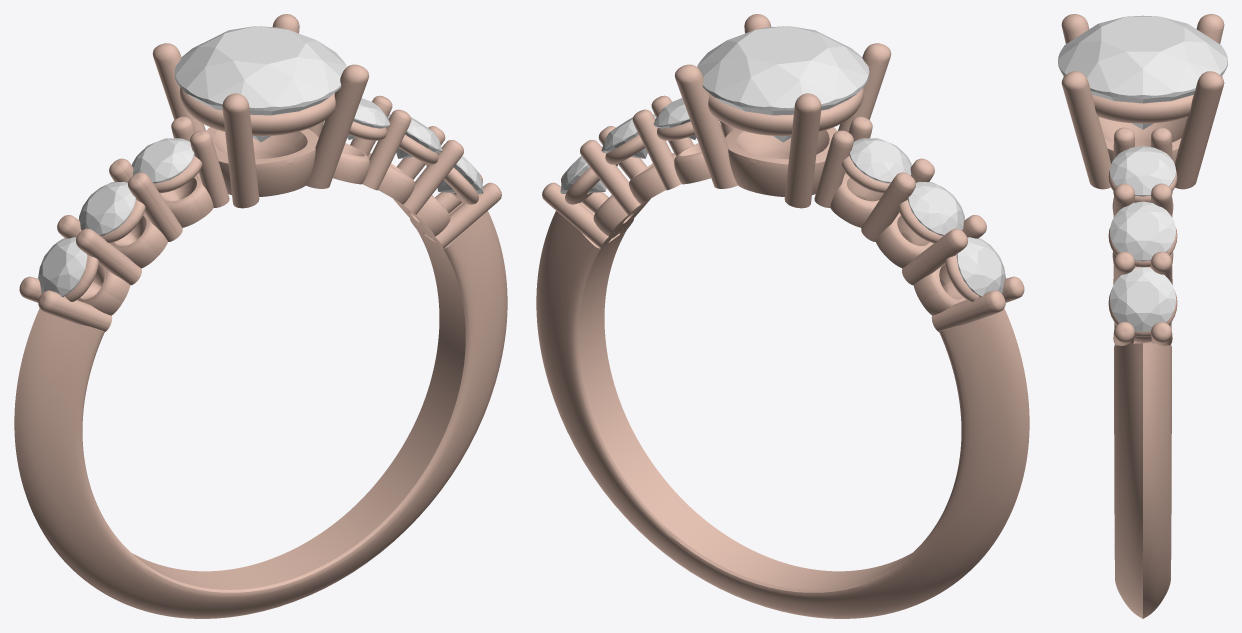
Rendered from diamond-round-rosegold-4prong-knifeedge-3stone.glb.
3 views of the same model, side by side, from view 1: azimuth 30°, elevation 25°; view 2: azimuth 150°, elevation 25°; view 3: azimuth 270°, elevation 25° (orthographic).
Parts seen in each view (by area): view 1: metal, stone, side.001, side.002, side, side.004, side.003, side.005; view 2: metal, stone, side.001, side.002, side, side.004, side.003, side.005; view 3: metal, stone, side.005, side.004, side.003.
Part boxes in pixels (bbox=[...]): metal: bbox=[14, 14, 507, 618]; stone: bbox=[174, 26, 346, 142]; side.001: bbox=[79, 181, 135, 235]; side.002: bbox=[38, 237, 87, 296]; side: bbox=[131, 138, 194, 183]; side.004: bbox=[387, 114, 442, 158]; side.003: bbox=[347, 98, 390, 139]; side.005: bbox=[437, 147, 483, 193]; metal: bbox=[536, 14, 1029, 618]; stone: bbox=[697, 26, 869, 142]; side.001: bbox=[908, 181, 964, 235]; side.002: bbox=[956, 237, 1005, 296]; side: bbox=[849, 138, 912, 183]; side.004: bbox=[601, 114, 656, 158]; side.003: bbox=[653, 98, 696, 139]; side.005: bbox=[560, 147, 606, 193]; metal: bbox=[1061, 14, 1224, 618]; stone: bbox=[1058, 15, 1227, 129]; side.005: bbox=[1110, 267, 1175, 331]; side.004: bbox=[1110, 201, 1175, 261]; side.003: bbox=[1110, 146, 1175, 196].
Bounding box in the file's own units: 21.24 × 23.31 × 6.44.
